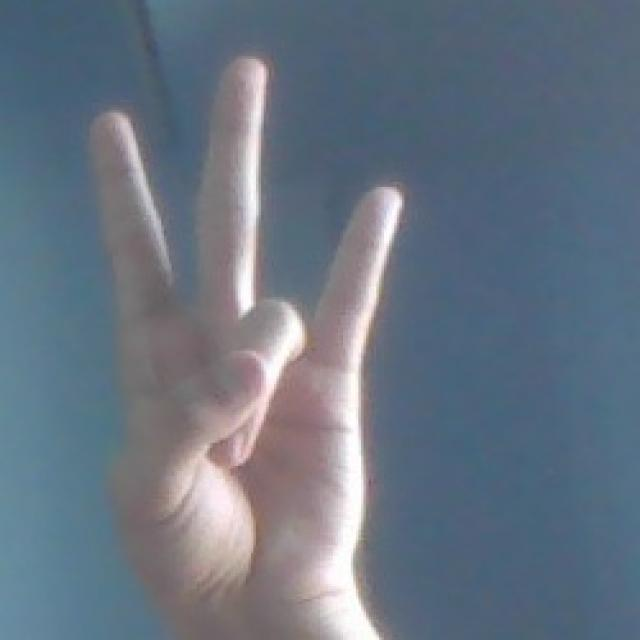Numeric-7: (58, 44, 404, 612)
